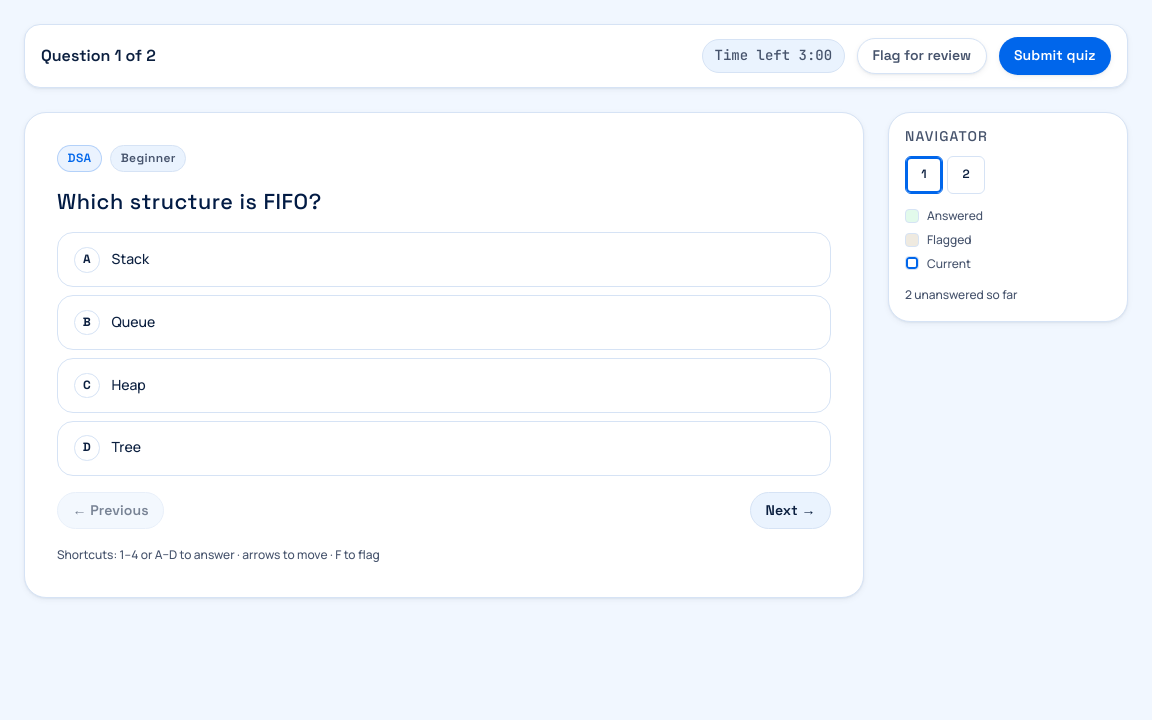
Test: QuizScreen submit confirmation › disables the top submit button while the confirmation is open
Click the button "Submit quiz".
click(1055, 56)  # box [998,37,1111,75]
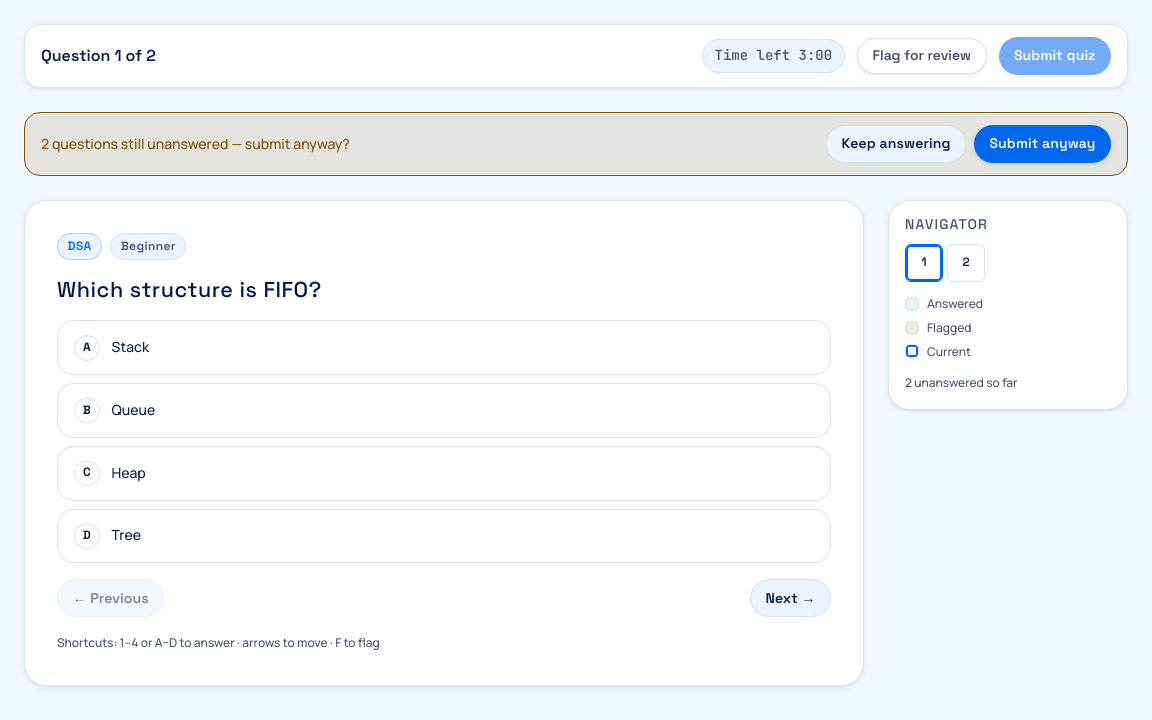
Check: the button "Submit quiz" is disabled, box [998,37,1111,75]
Check: the message "2 questions still unanswered — submit anyway? Keep answering Submit anyway" is shown, box [24,112,1128,176]
